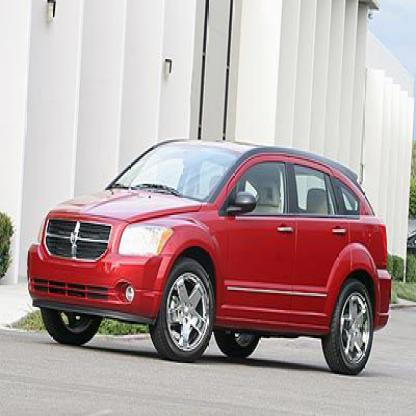car: (27, 140, 391, 379)
